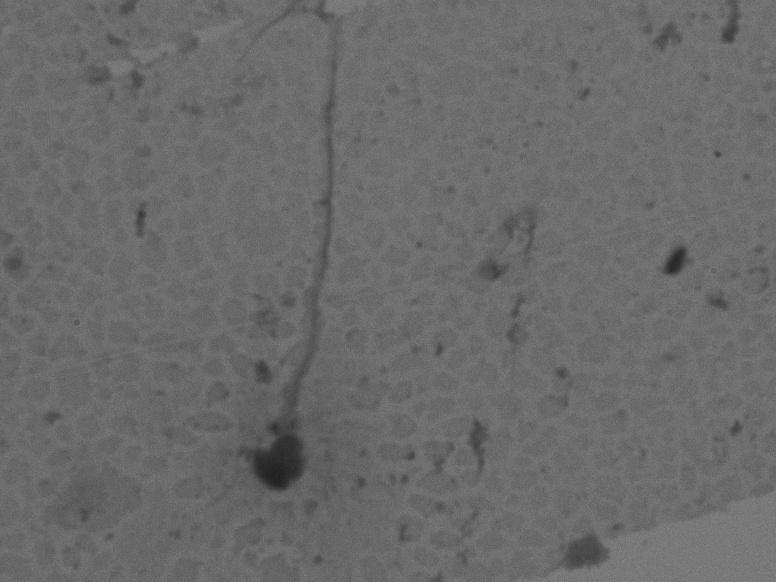Abnormal: (202, 14, 371, 503)
